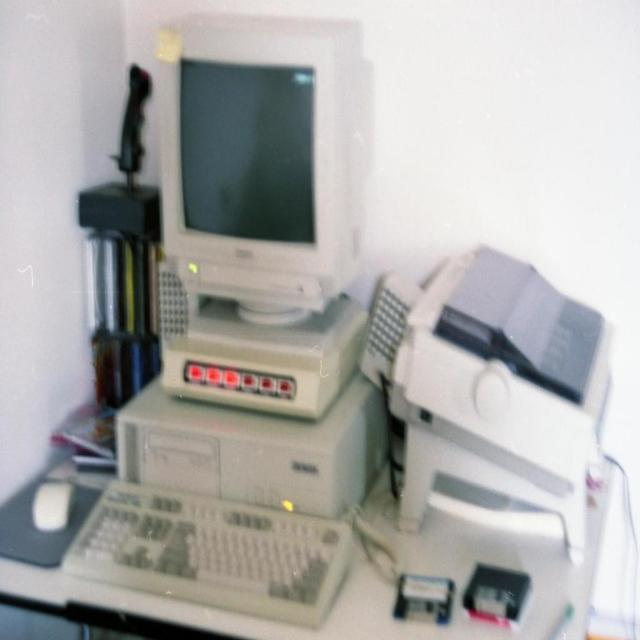others: (1, 4, 640, 638)
